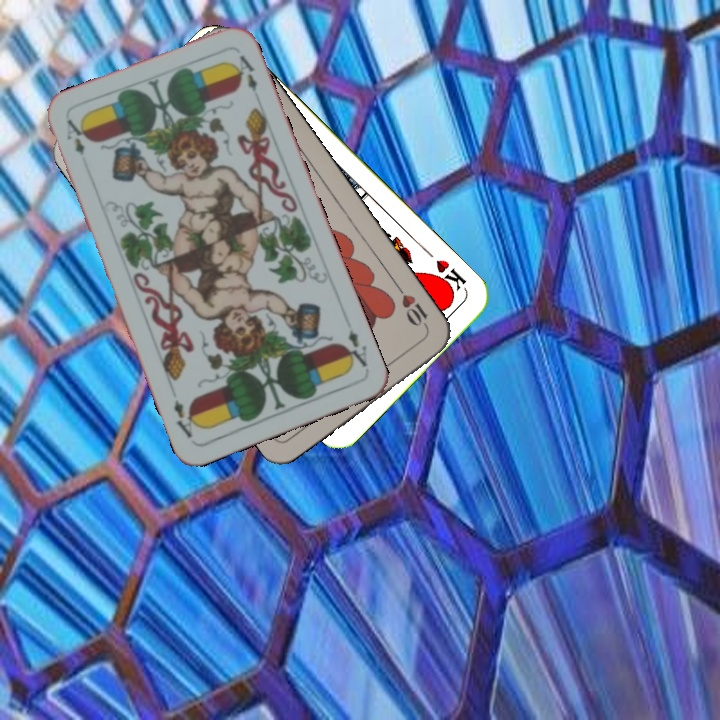EA: (338, 325, 370, 370), (62, 115, 88, 158)
H10: (392, 281, 432, 333)
HK: (428, 255, 469, 298)
